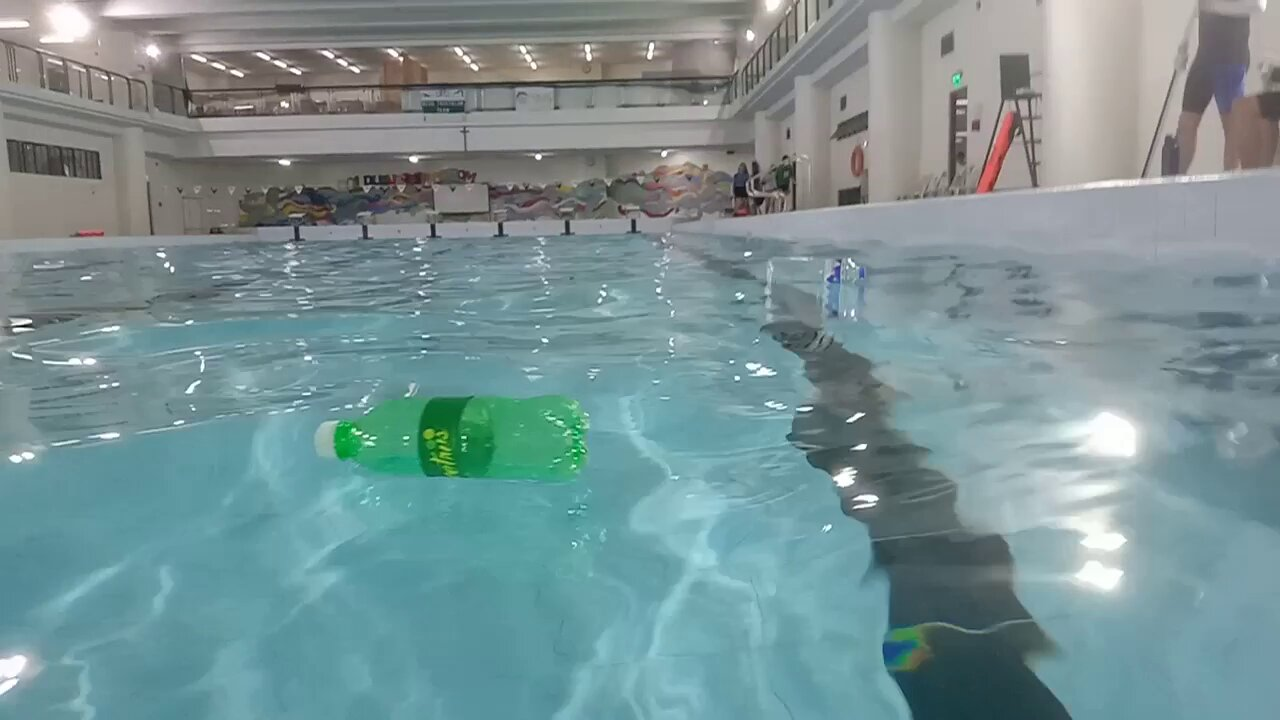plastic_bottle: (314, 395, 590, 477), (765, 255, 867, 287)
